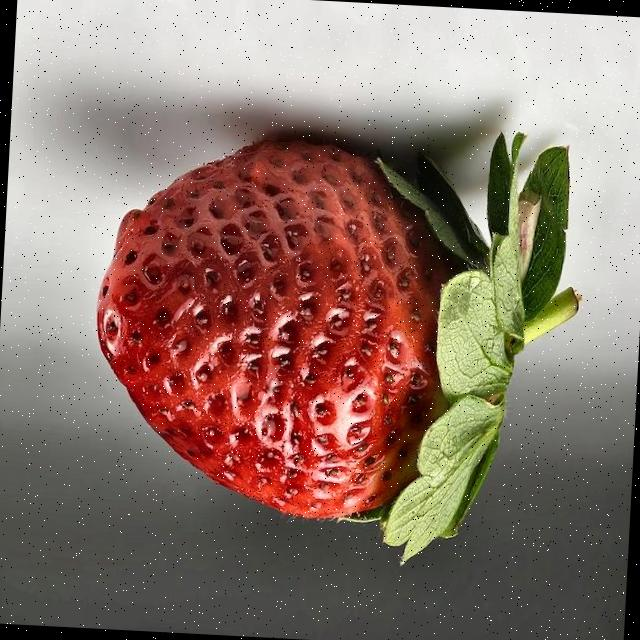strawberry: (97, 134, 577, 561)
